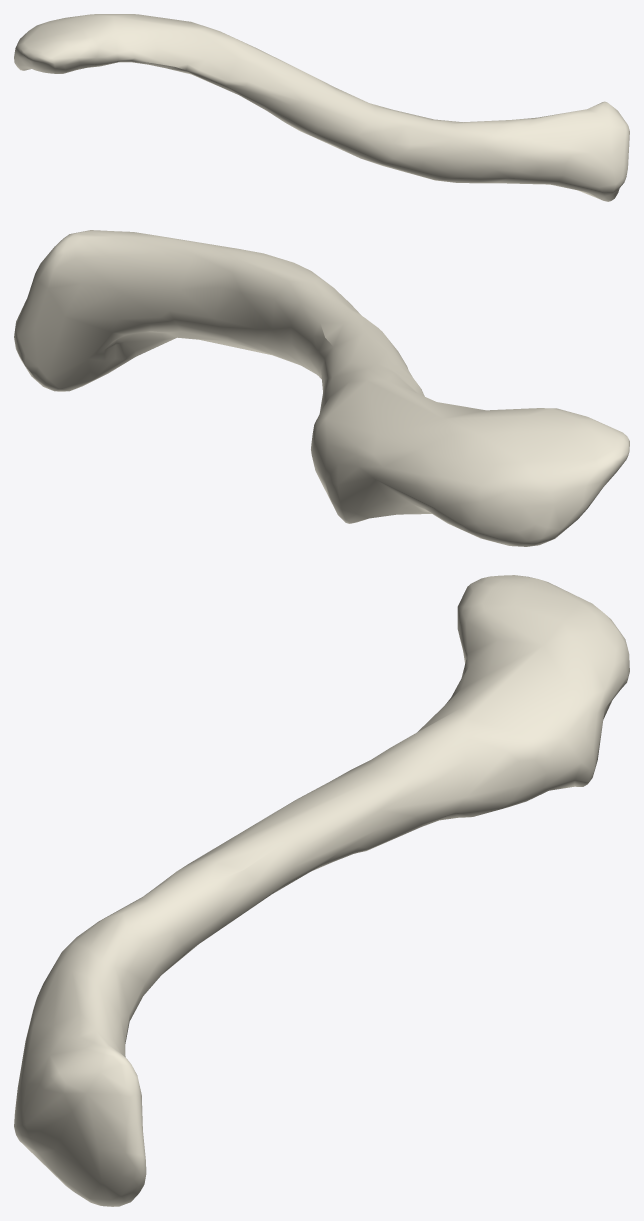
Rendered from fma13322_fj3362.glb.
3 renders of one model, top to bottom at view 1: azimuth 30°, elevation 25°; view 2: azimuth 150°, elevation 25°; view 3: azimuth 270°, elevation 25°, orthographic. The views are drawn at different scales.
Parts seen in each view (by area): view 1: FMA13322_FJ3362; view 2: FMA13322_FJ3362; view 3: FMA13322_FJ3362.
Part boxes in pixels (x1,y1,x2,y2): FMA13322_FJ3362: (14, 14, 629, 201); FMA13322_FJ3362: (14, 230, 629, 546); FMA13322_FJ3362: (14, 575, 629, 1206).
Size of the model in its own units: 0.1356 by 0.0468 by 0.0925.
